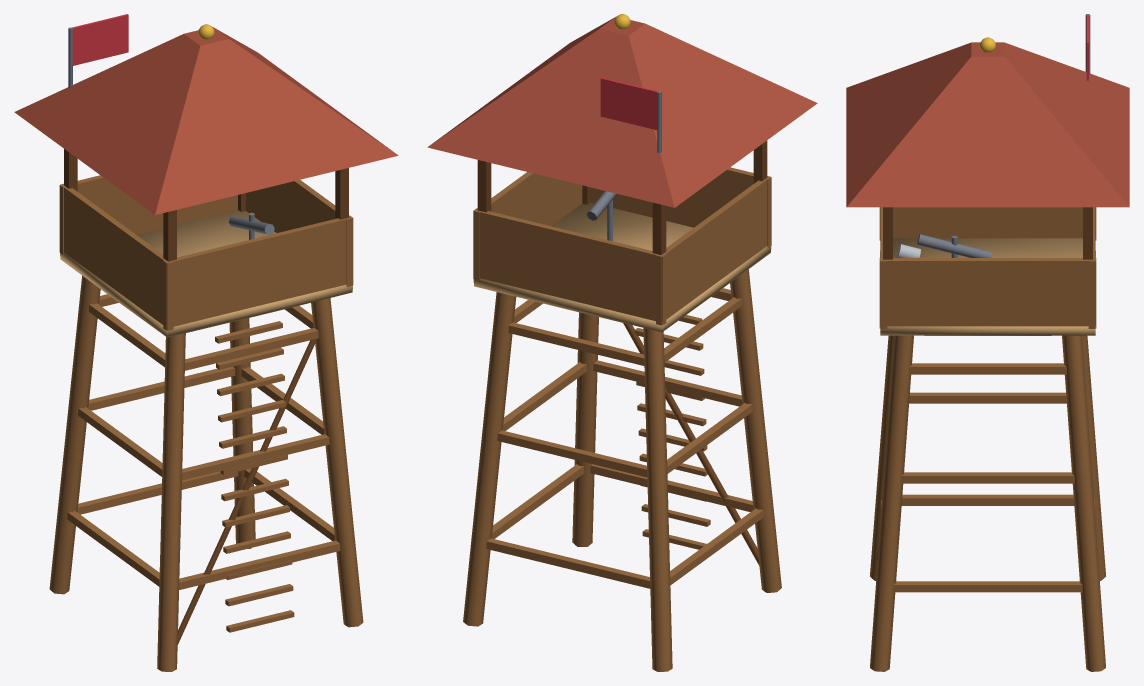
The model's file is watch_tower.glb.
The picture shows the model from 3 angles, left to right: view 1: azimuth 30°, elevation 25°; view 2: azimuth 150°, elevation 25°; view 3: azimuth 270°, elevation 25°; orthographic projection.
Parts seen in each view (by area): view 1: root; view 2: root; view 3: root.
Boxes of the visible parts, x1,y1,x2,y2 form: root: [14, 14, 398, 671]; root: [427, 14, 817, 671]; root: [846, 14, 1129, 671].
Size of the model in its own units: 3.4 by 7.76 by 3.4.
